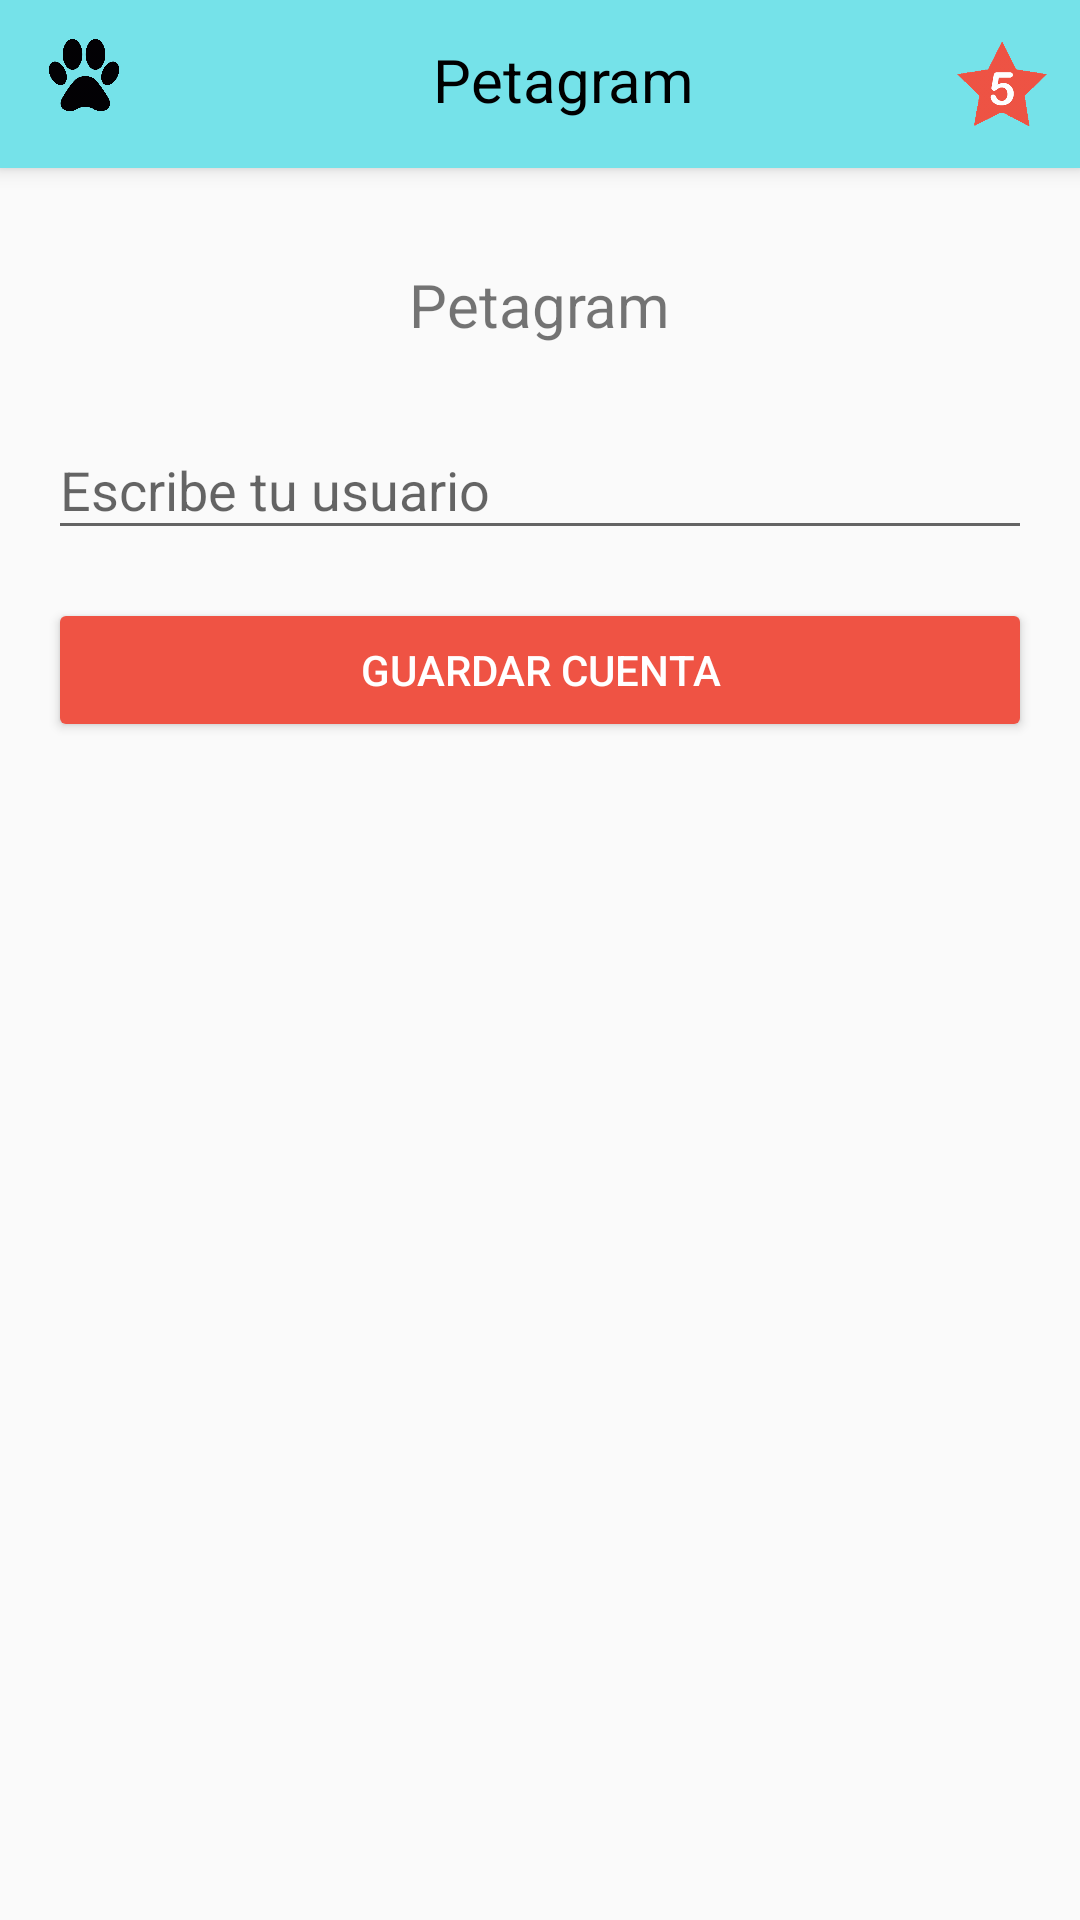

Named icons in this screenshot (1080×1920) and their centers, (x,y):
estrella: (1002,84)
huella: (84,75)
